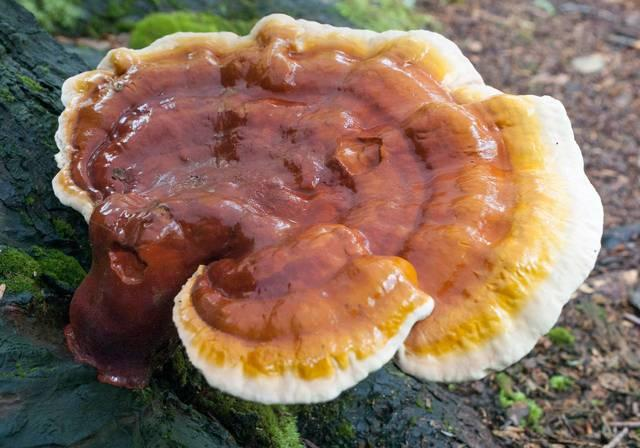poisonous_mushroom: (50, 12, 605, 404), (170, 222, 435, 405)
